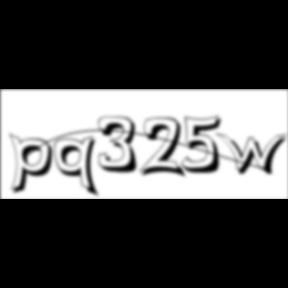2: (140, 117, 190, 181)
3: (98, 116, 144, 176)
5: (180, 114, 228, 176)
p: (9, 132, 59, 198)
q: (55, 135, 104, 200)
